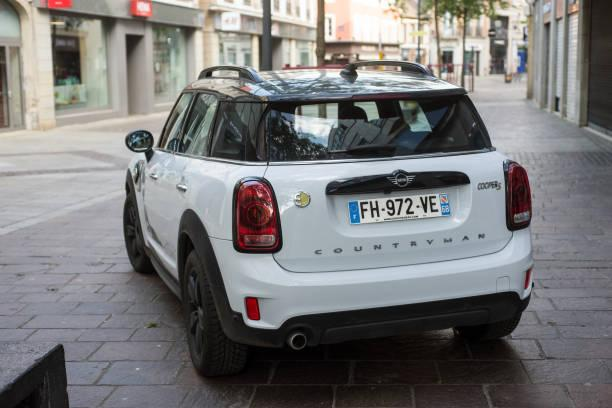mini: (377, 166, 429, 198)
